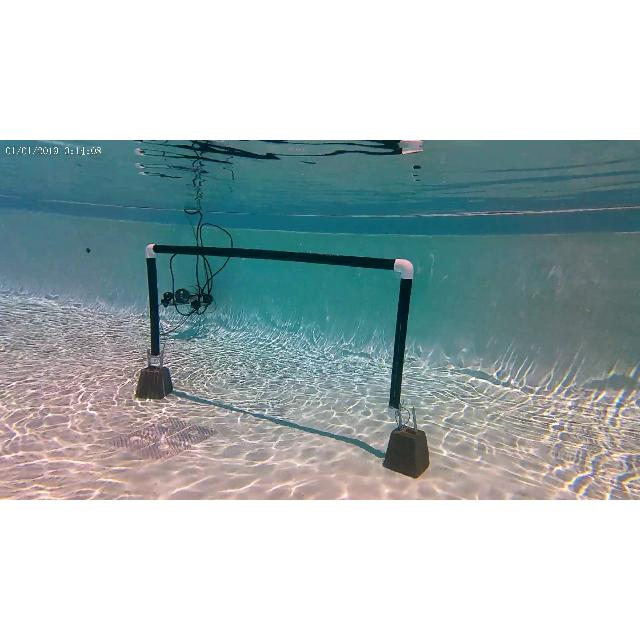prequal gate: (145, 244, 415, 418)
prequal gate leg l: (134, 243, 176, 395)
prequal gate leg r: (382, 250, 432, 478)
